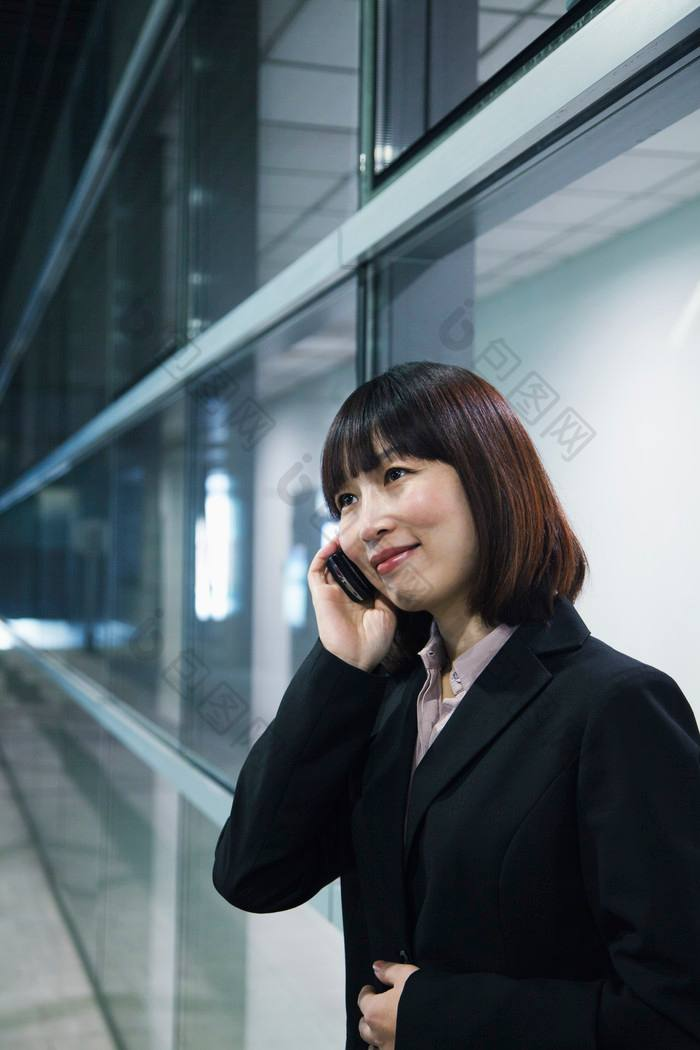calling: (303, 528, 398, 663)
